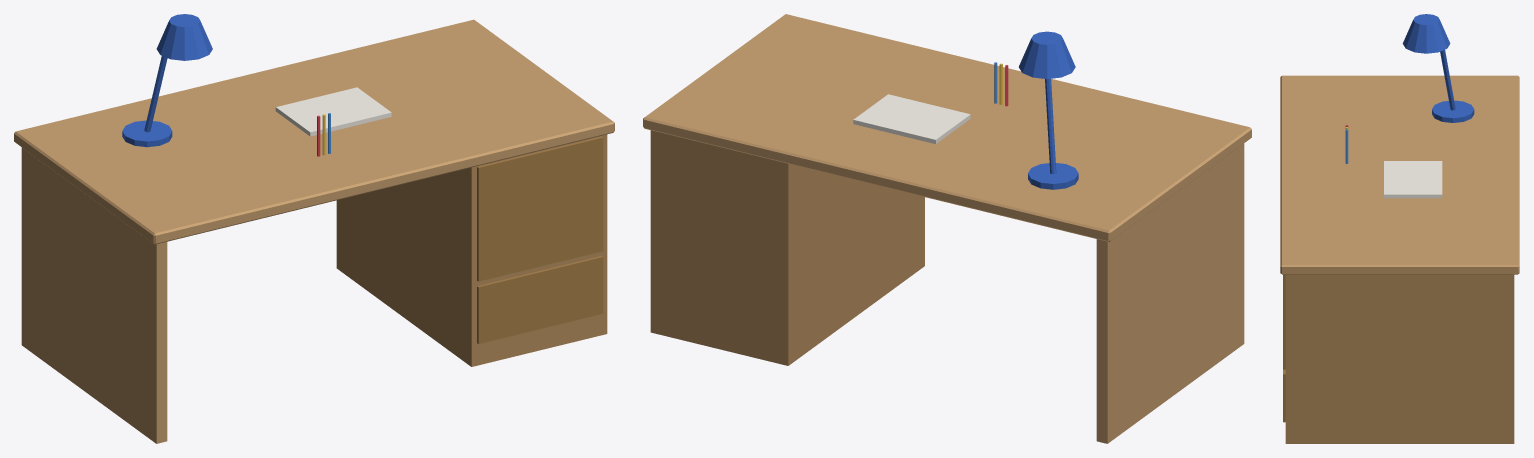
The model's file is desk.glb.
The picture shows the model from 3 angles, left to right: view 1: azimuth 30°, elevation 25°; view 2: azimuth 150°, elevation 25°; view 3: azimuth 270°, elevation 25°; orthographic projection. The views are drawn at different scales.
Visible parts, largest first — view 1: desk; view 2: desk; view 3: desk.
Part boxes in pixels (box(x1,y1,x2,y2)): desk: box(14, 14, 614, 443); desk: box(643, 14, 1251, 443); desk: box(1280, 14, 1519, 443).
Bounding box in the file's own units: 1.7 × 1.18 × 0.9.
